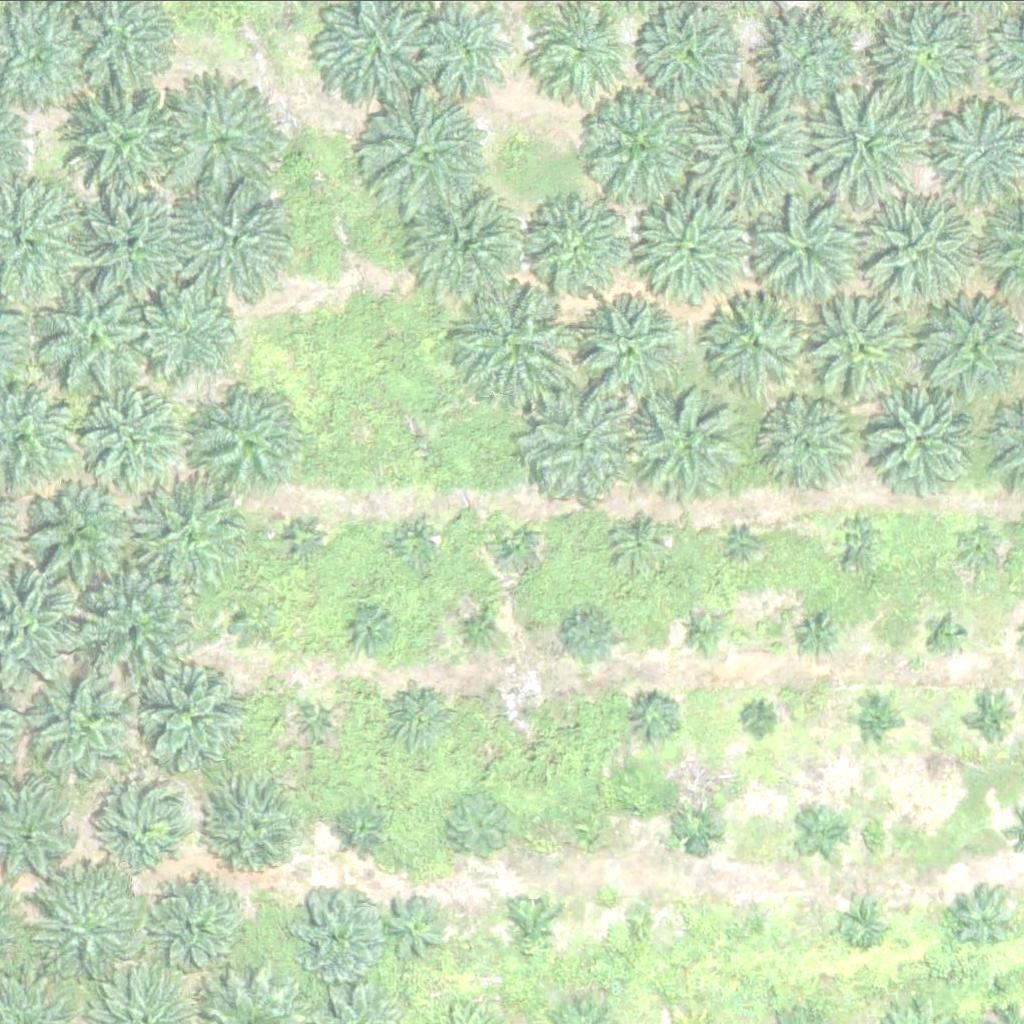Kelapa_Sawit: (25, 661, 151, 786), (84, 565, 210, 690), (12, 478, 138, 603), (36, 277, 162, 402), (172, 177, 298, 302), (57, 78, 183, 203), (161, 74, 287, 199), (368, 93, 494, 218), (453, 276, 579, 401), (686, 86, 812, 211), (576, 84, 702, 209), (854, 189, 980, 314), (802, 82, 928, 207), (26, 859, 151, 984), (73, 388, 187, 501), (135, 275, 249, 388), (407, 186, 521, 299), (140, 656, 253, 769), (192, 384, 305, 497), (634, 196, 747, 309), (751, 197, 864, 310), (806, 288, 920, 400), (140, 478, 253, 590), (80, 192, 193, 304), (526, 388, 639, 500), (632, 379, 745, 491), (150, 874, 251, 974), (95, 782, 196, 882), (208, 784, 309, 884), (417, 1, 518, 101), (576, 298, 677, 398), (704, 292, 805, 392), (285, 879, 386, 979), (532, 3, 632, 103), (641, 5, 741, 105), (764, 20, 864, 120), (525, 199, 625, 299), (870, 387, 970, 487), (766, 395, 854, 482), (441, 790, 516, 865), (954, 885, 1017, 948), (558, 604, 621, 667), (389, 687, 452, 749), (380, 896, 443, 958), (967, 695, 1018, 745), (615, 518, 666, 568), (503, 902, 554, 952), (628, 695, 679, 745), (450, 602, 501, 652), (833, 513, 883, 563), (850, 693, 900, 743), (795, 805, 845, 855), (838, 898, 888, 948), (341, 604, 391, 654), (675, 803, 725, 853), (488, 518, 538, 568), (278, 515, 328, 565), (389, 519, 439, 569), (293, 699, 343, 749), (224, 596, 274, 646), (678, 607, 728, 657), (952, 524, 1002, 574), (792, 608, 842, 658), (571, 807, 609, 845), (927, 616, 965, 654), (347, 809, 384, 847), (504, 697, 529, 722), (733, 531, 758, 556), (747, 708, 772, 733), (740, 909, 765, 934), (624, 909, 649, 934)
